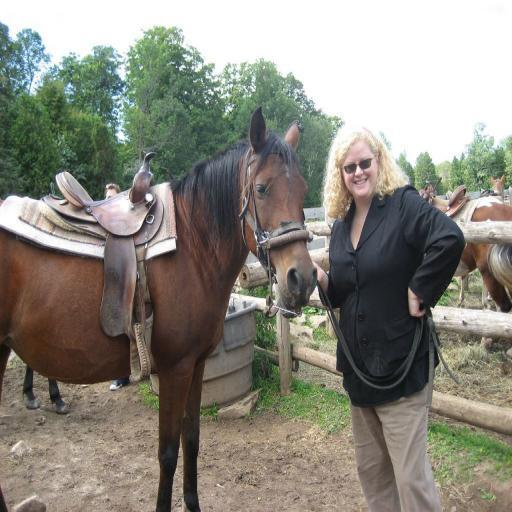horse: (0, 108, 319, 511), (416, 191, 512, 356), (458, 172, 506, 314), (420, 178, 438, 206)
